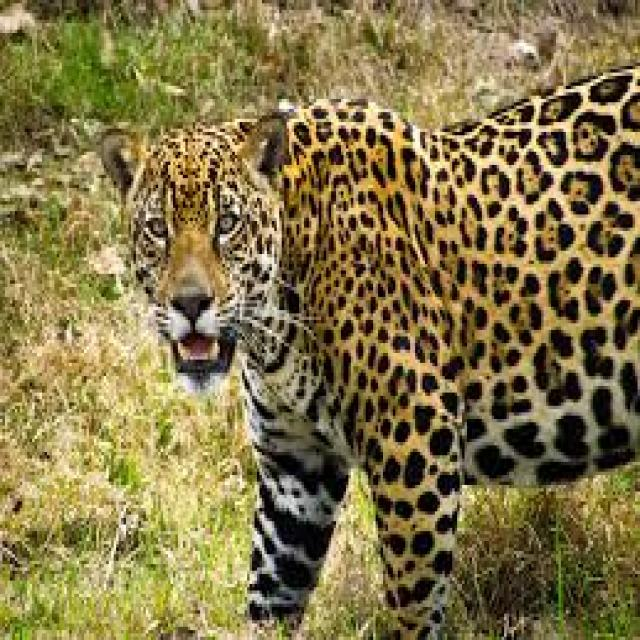Jaguar: (96, 59, 640, 640)
